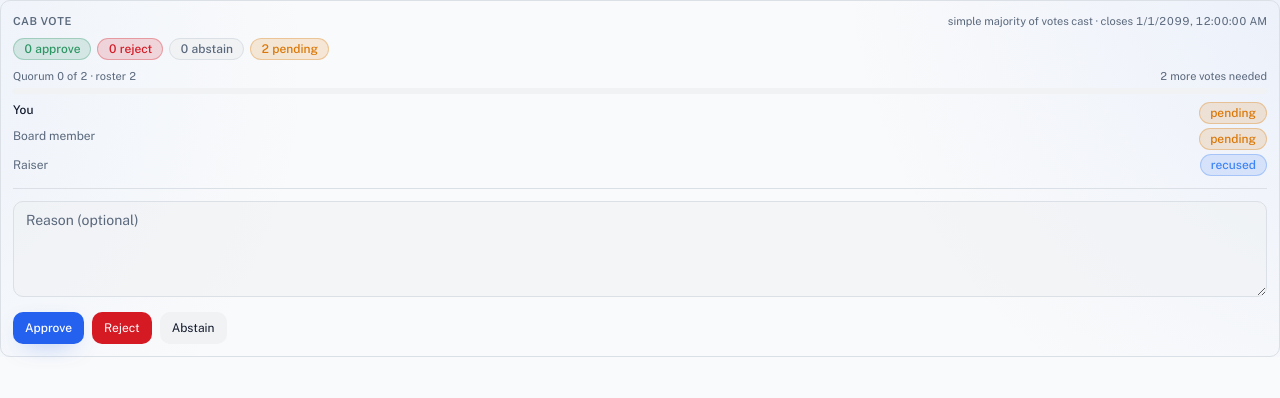
Scenario: VotePanel › surfaces a rejected vote instead of silently swallowing it
Click the button "Reject".
click(122, 328)  # box [92,312,152,344]
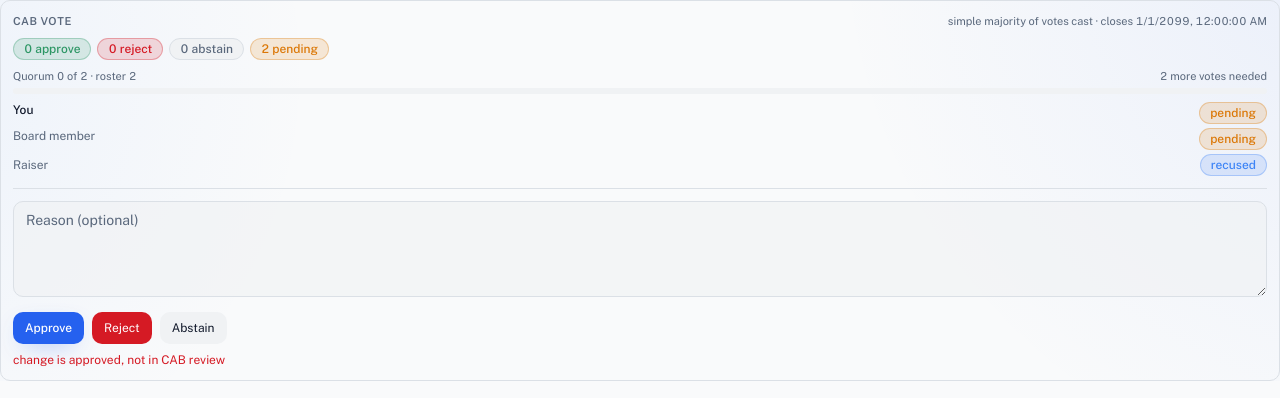
Result: the text "change is approved, not in CAB review" is shown at [13,353,225,367]
